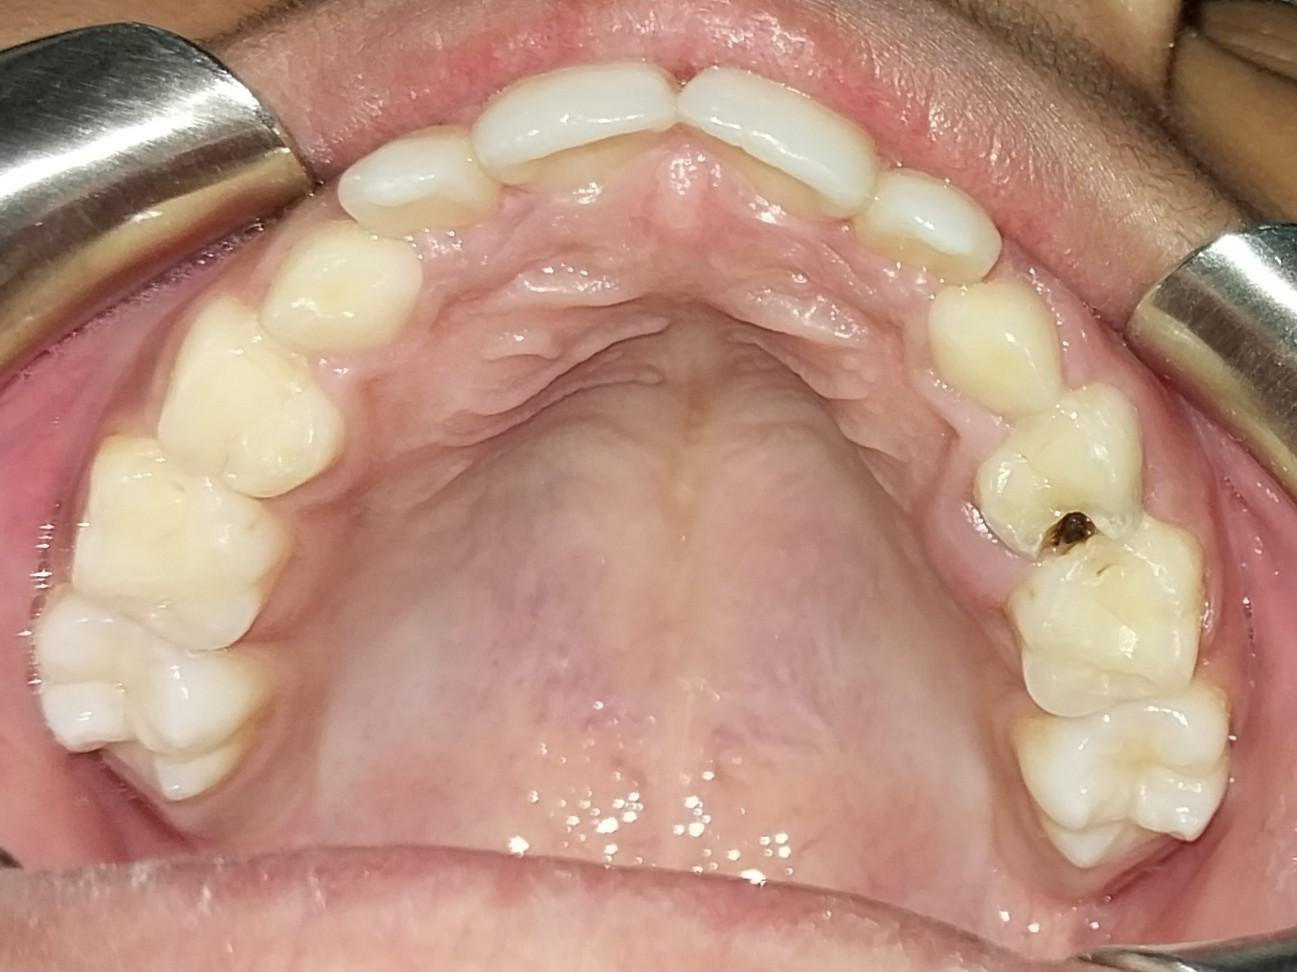d: (978, 390, 1150, 559)
